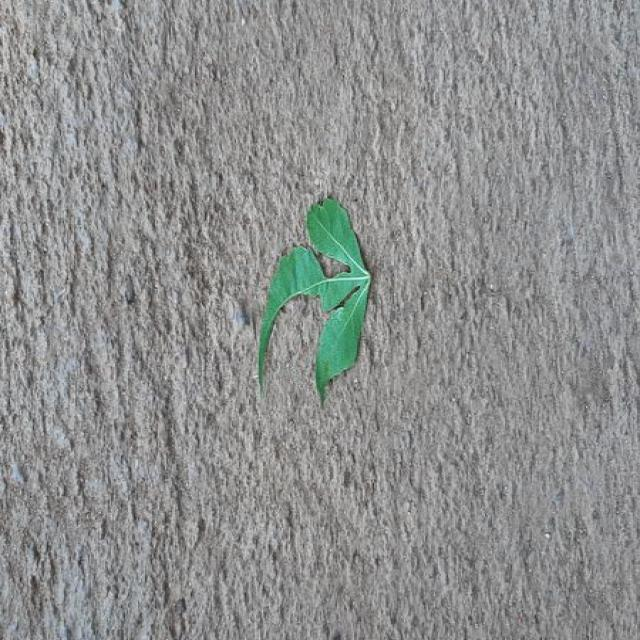neem: (258, 199, 372, 402)
